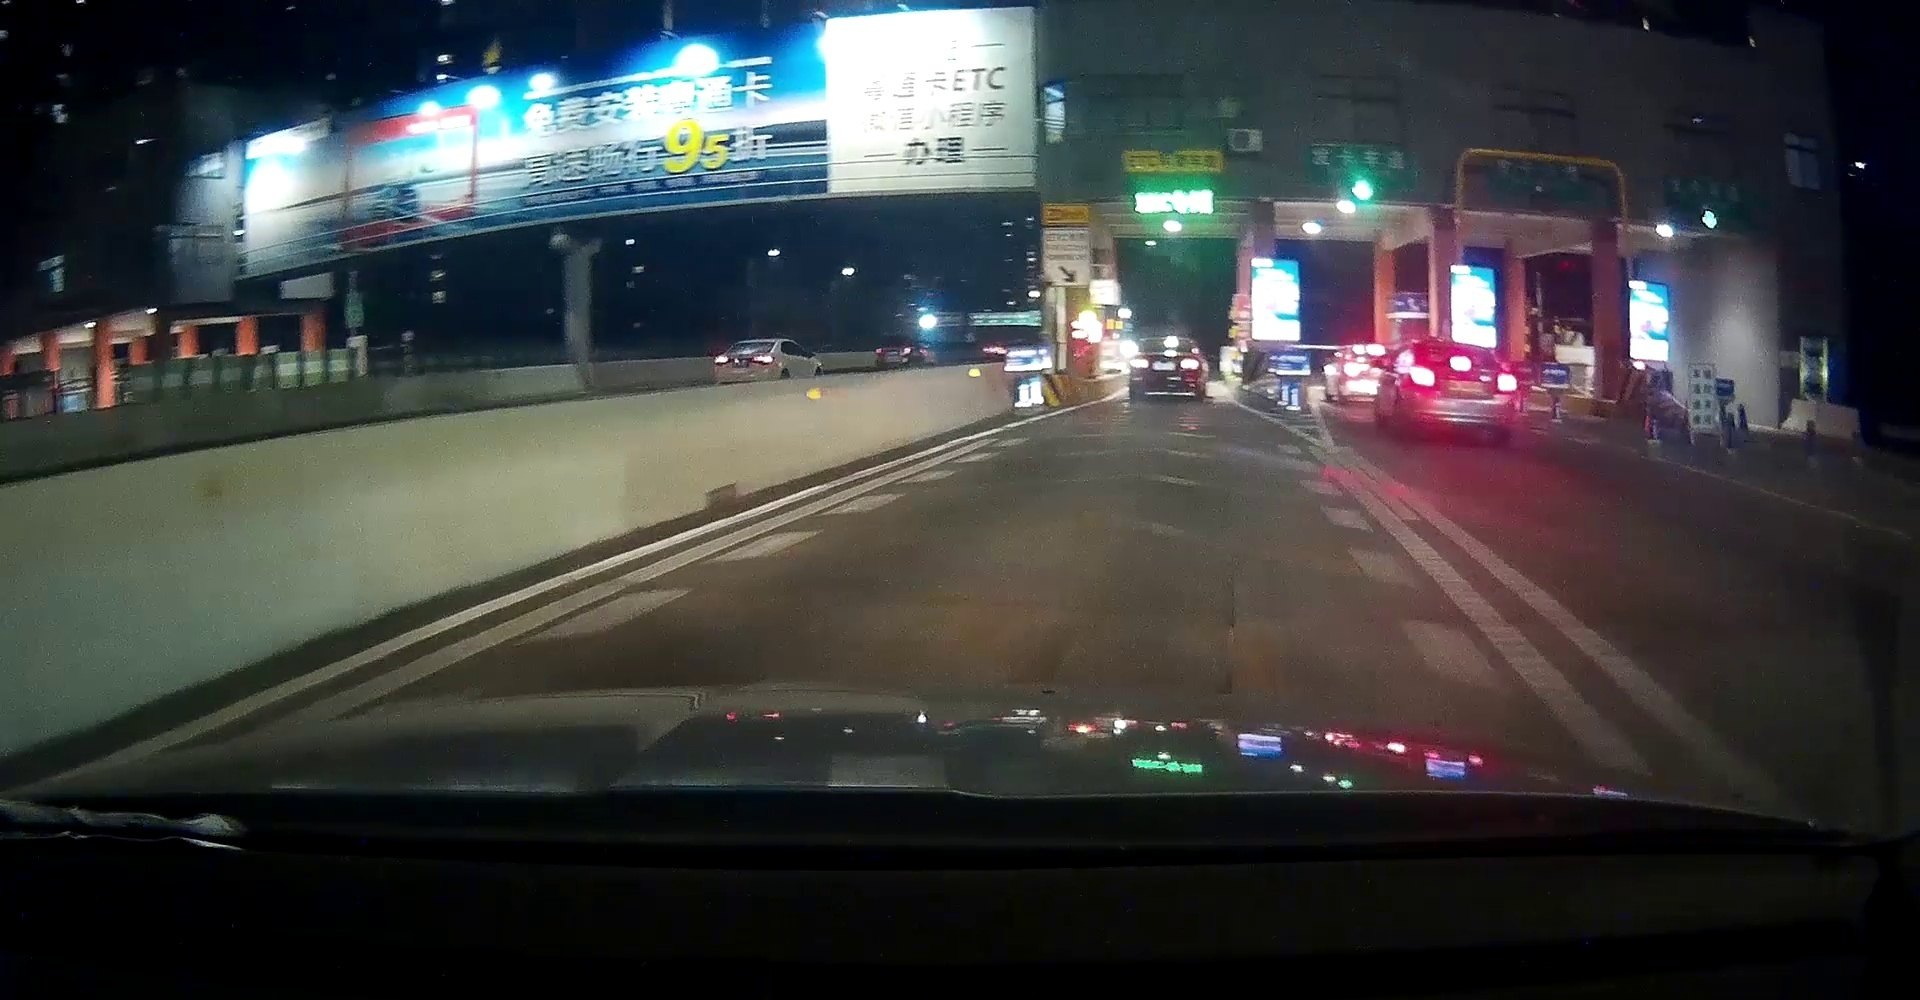L_light: (1407, 365, 1436, 387), (1128, 357, 1150, 371), (712, 357, 729, 363)
R_light: (1497, 372, 1517, 392), (1178, 355, 1200, 371), (750, 354, 775, 364)
T_light: (1448, 355, 1473, 367), (1162, 338, 1180, 346), (742, 341, 759, 344)
night-brake: (1399, 341, 1517, 437), (1126, 336, 1205, 400)
night-no: (711, 338, 776, 387)
